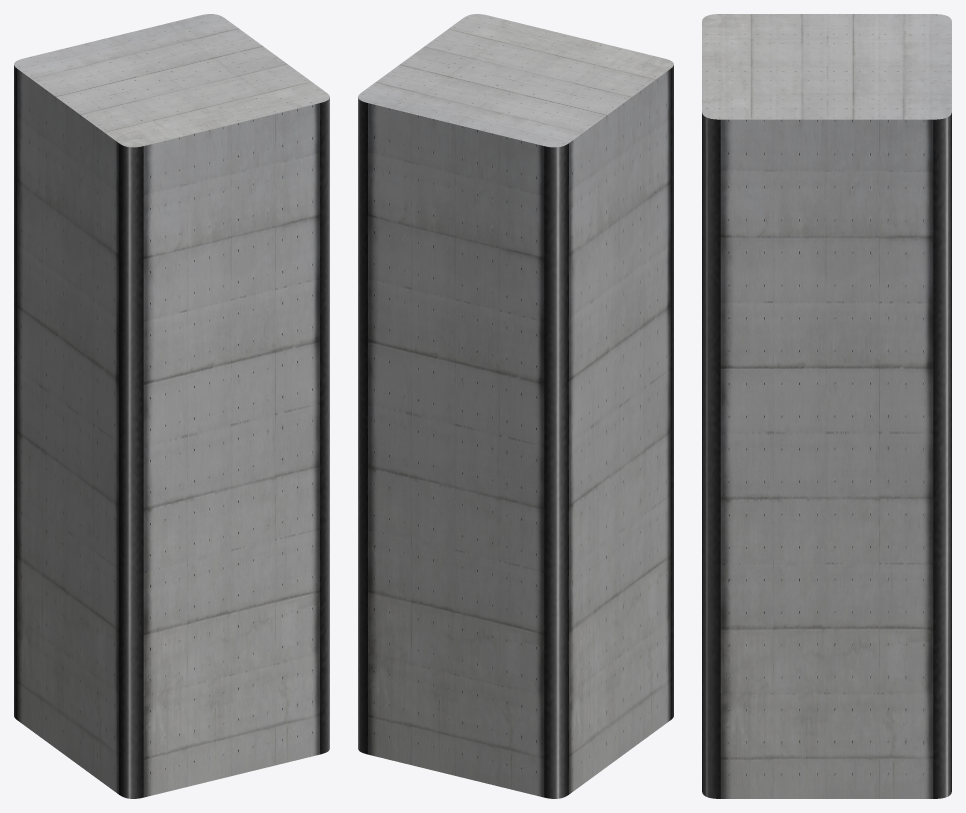
The model's file is NMCWall000.fbx.
3 views of the same model, side by side, from view 1: azimuth 30°, elevation 25°; view 2: azimuth 150°, elevation 25°; view 3: azimuth 270°, elevation 25° (orthographic). The views are drawn at different scales.
Visible parts, largest first — view 1: Wall000; view 2: Wall000; view 3: Wall000.
Part boxes in pixels (<box>): Wall000: <box>14,14,329,798</box>; Wall000: <box>358,14,673,798</box>; Wall000: <box>702,14,951,798</box>.
Size of the model in its own units: 200 by 600 by 200.
1 material, 1 textured.
